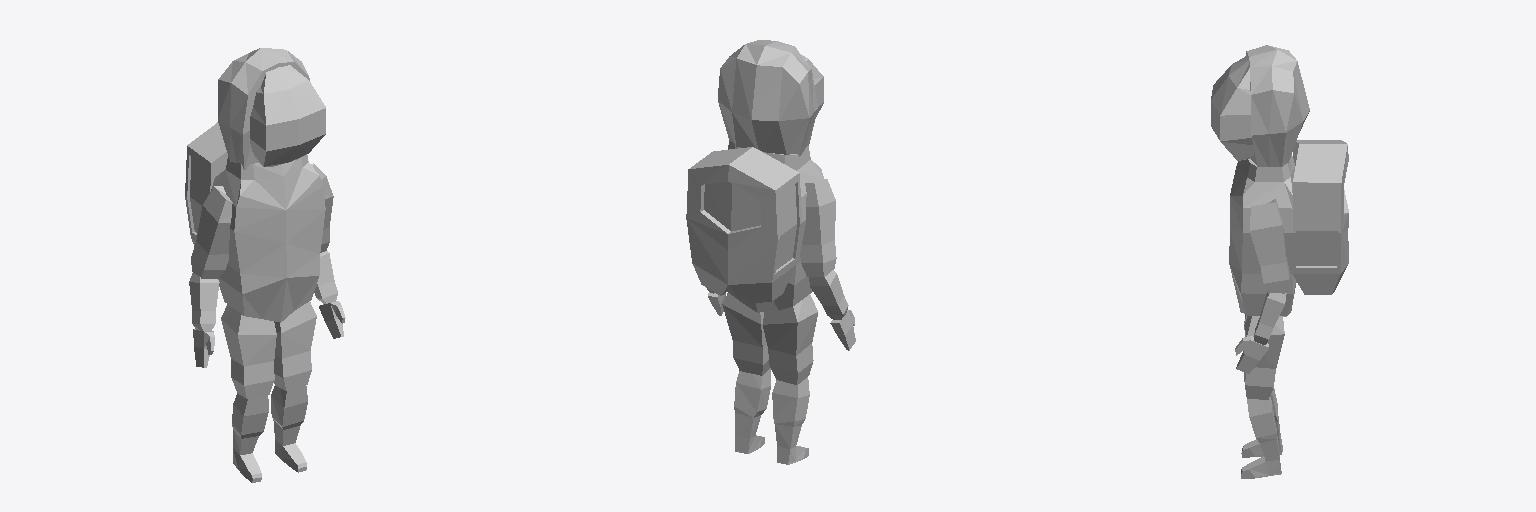
Rendered from StarForger.obj.
3 renders of one model, left to right at view 1: azimuth 30°, elevation 25°; view 2: azimuth 150°, elevation 25°; view 3: azimuth 270°, elevation 25°, orthographic.
Visible parts, largest first — view 1: Starforger; view 2: Starforger; view 3: Starforger.
Boxes of the visible parts, x1,y1,x2,y2 form: Starforger: [185, 48, 345, 482]; Starforger: [686, 40, 855, 464]; Starforger: [1211, 45, 1348, 478].
Size of the model in its own units: 0.6279 by 1.77 by 0.5336.